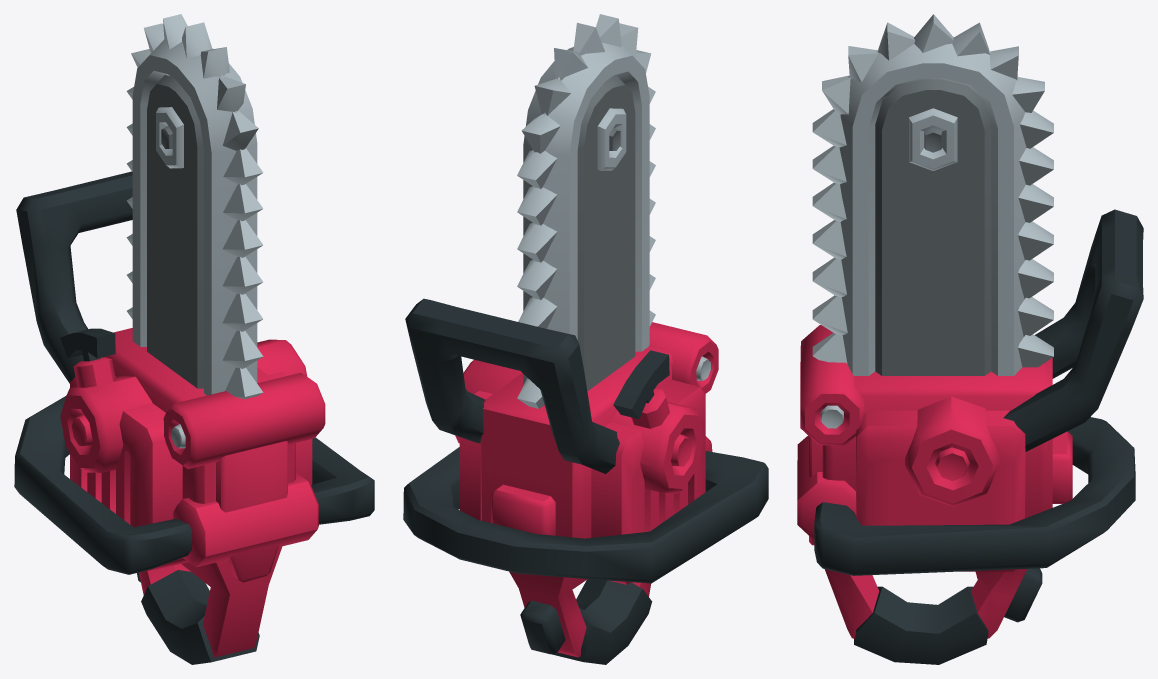
File: chainsaw.fbx
The picture shows the model from 3 angles, left to right: view 1: azimuth 30°, elevation 25°; view 2: azimuth 150°, elevation 25°; view 3: azimuth 270°, elevation 25°; orthographic projection.
Parts seen in each view (by area): view 1: chainsaw; view 2: chainsaw; view 3: chainsaw.
Boxes of the visible parts, x1,y1,x2,y2 form: chainsaw: [14, 14, 374, 664]; chainsaw: [403, 14, 768, 664]; chainsaw: [797, 14, 1143, 664].
Size of the model in its own units: 0.517 by 1.17 by 0.5804.
